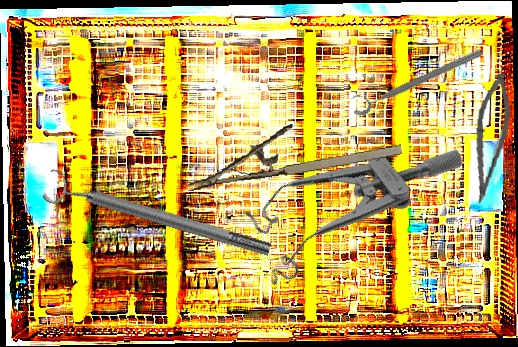Fixation Ring: (41, 165, 275, 270), (346, 38, 486, 119)
Micro Scissor: (468, 70, 516, 207)
Needle Holder: (180, 109, 404, 192)
Speculum: (226, 84, 467, 304)
